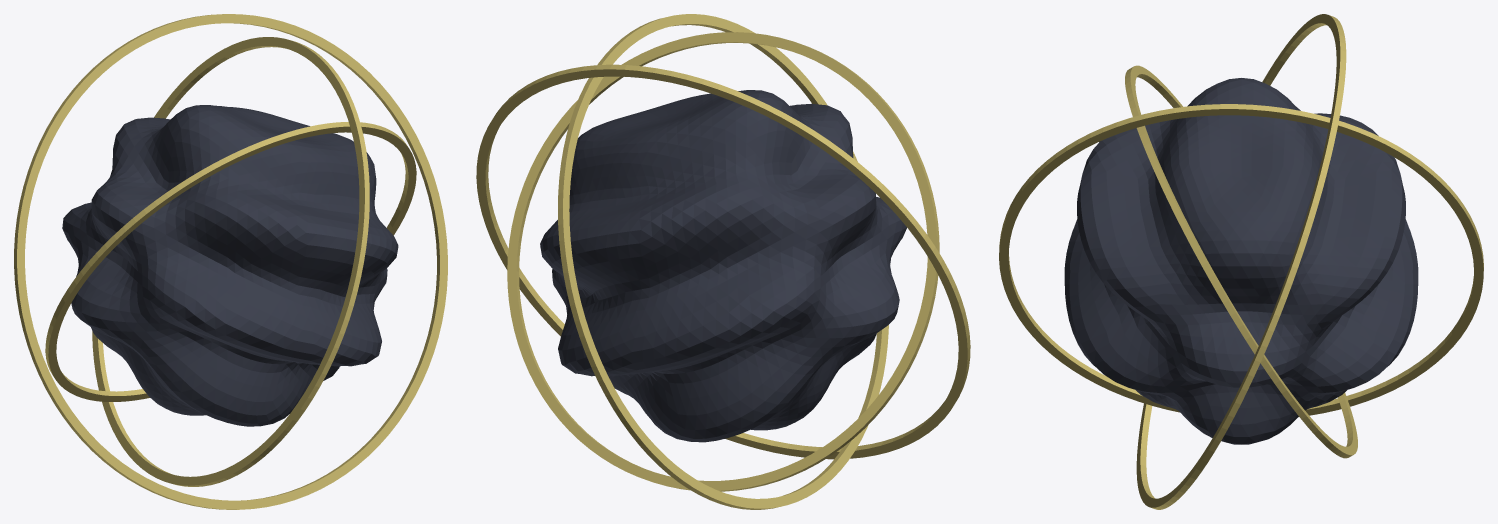
Rendered from gpu-artifact.glb.
The picture shows the model from 3 angles, left to right: view 1: azimuth 30°, elevation 25°; view 2: azimuth 150°, elevation 25°; view 3: azimuth 270°, elevation 25°; orthographic projection. The views are drawn at different scales.
Parts seen in each view (by area): view 1: sovereign-agent-bridge_obsidian_core, sovereign-agent-bridge_orbital_ring_2, sovereign-agent-bridge_orbital_ring_1, sovereign-agent-bridge_orbital_ring_0; view 2: sovereign-agent-bridge_obsidian_core, sovereign-agent-bridge_orbital_ring_0, sovereign-agent-bridge_orbital_ring_2, sovereign-agent-bridge_orbital_ring_1; view 3: sovereign-agent-bridge_obsidian_core, sovereign-agent-bridge_orbital_ring_1, sovereign-agent-bridge_orbital_ring_2, sovereign-agent-bridge_orbital_ring_0.
Boxes of the visible parts, x1,y1,x2,y2 form: sovereign-agent-bridge_obsidian_core: (62, 105, 398, 426); sovereign-agent-bridge_orbital_ring_2: (14, 14, 447, 509); sovereign-agent-bridge_orbital_ring_1: (92, 37, 369, 486); sovereign-agent-bridge_orbital_ring_0: (45, 122, 416, 401); sovereign-agent-bridge_obsidian_core: (540, 90, 906, 442); sovereign-agent-bridge_orbital_ring_0: (507, 32, 939, 491); sovereign-agent-bridge_orbital_ring_2: (476, 64, 970, 459); sovereign-agent-bridge_orbital_ring_1: (558, 14, 888, 509); sovereign-agent-bridge_obsidian_core: (1064, 78, 1418, 444); sovereign-agent-bridge_orbital_ring_1: (999, 104, 1483, 415); sovereign-agent-bridge_orbital_ring_2: (1136, 14, 1346, 509); sovereign-agent-bridge_orbital_ring_0: (1125, 65, 1357, 458).
Bounding box in the file's own units: 3.24 × 3 × 3.
